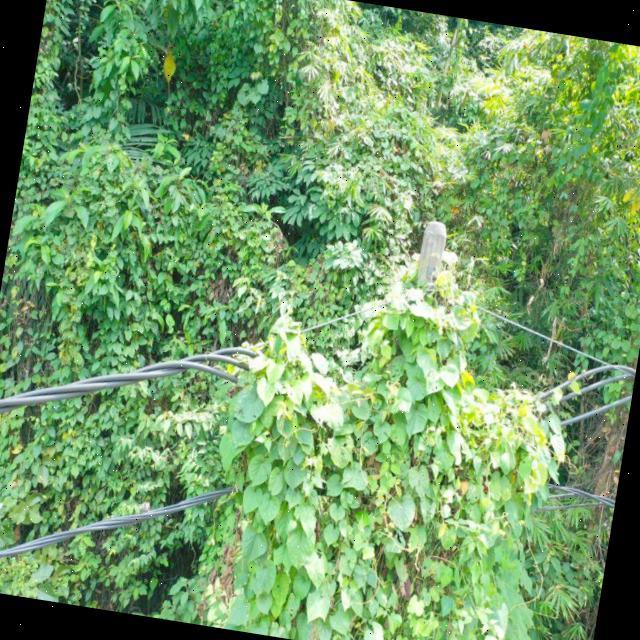critical vegetation: (192, 230, 589, 640)
